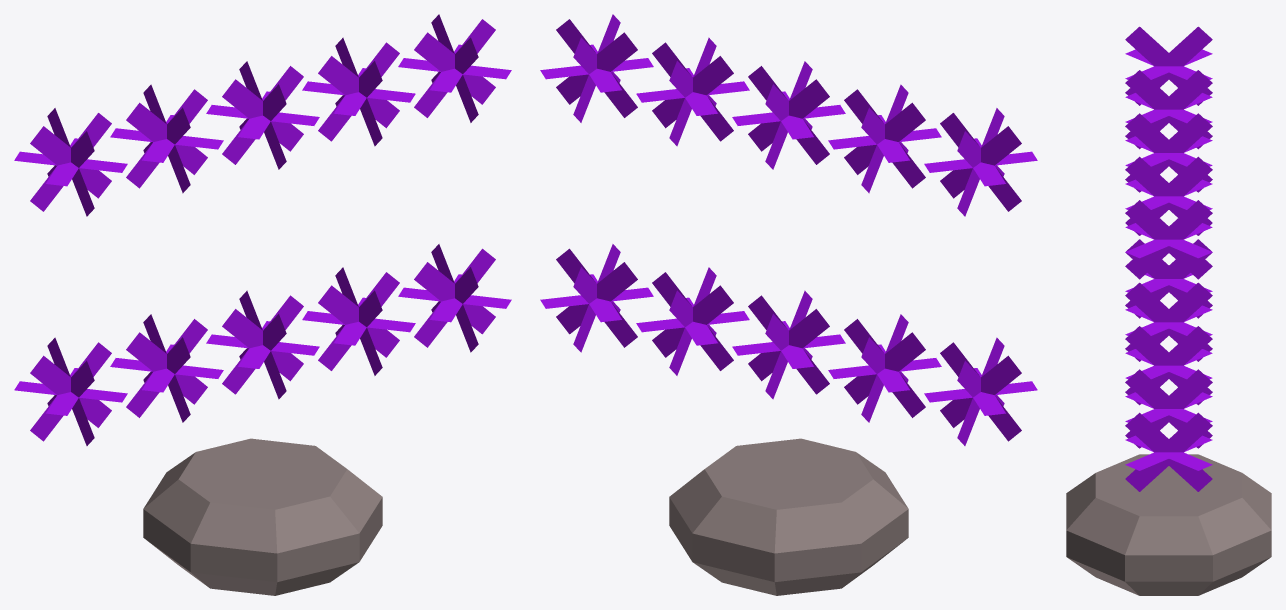
File: model_3067_spotanim.obj
3 renders of one model, left to right at view 1: azimuth 30°, elevation 25°; view 2: azimuth 150°, elevation 25°; view 3: azimuth 270°, elevation 25°, orthographic. The views are drawn at different scales.
Parts seen in each view (by area): view 1: 3067; view 2: 3067; view 3: 3067.
Part boxes in pixels (bbox=[...]): 3067: bbox=[14, 14, 511, 595]; 3067: bbox=[540, 14, 1037, 595]; 3067: bbox=[1066, 26, 1271, 595].
Size of the model in its own units: 34 by 34 by 14.
